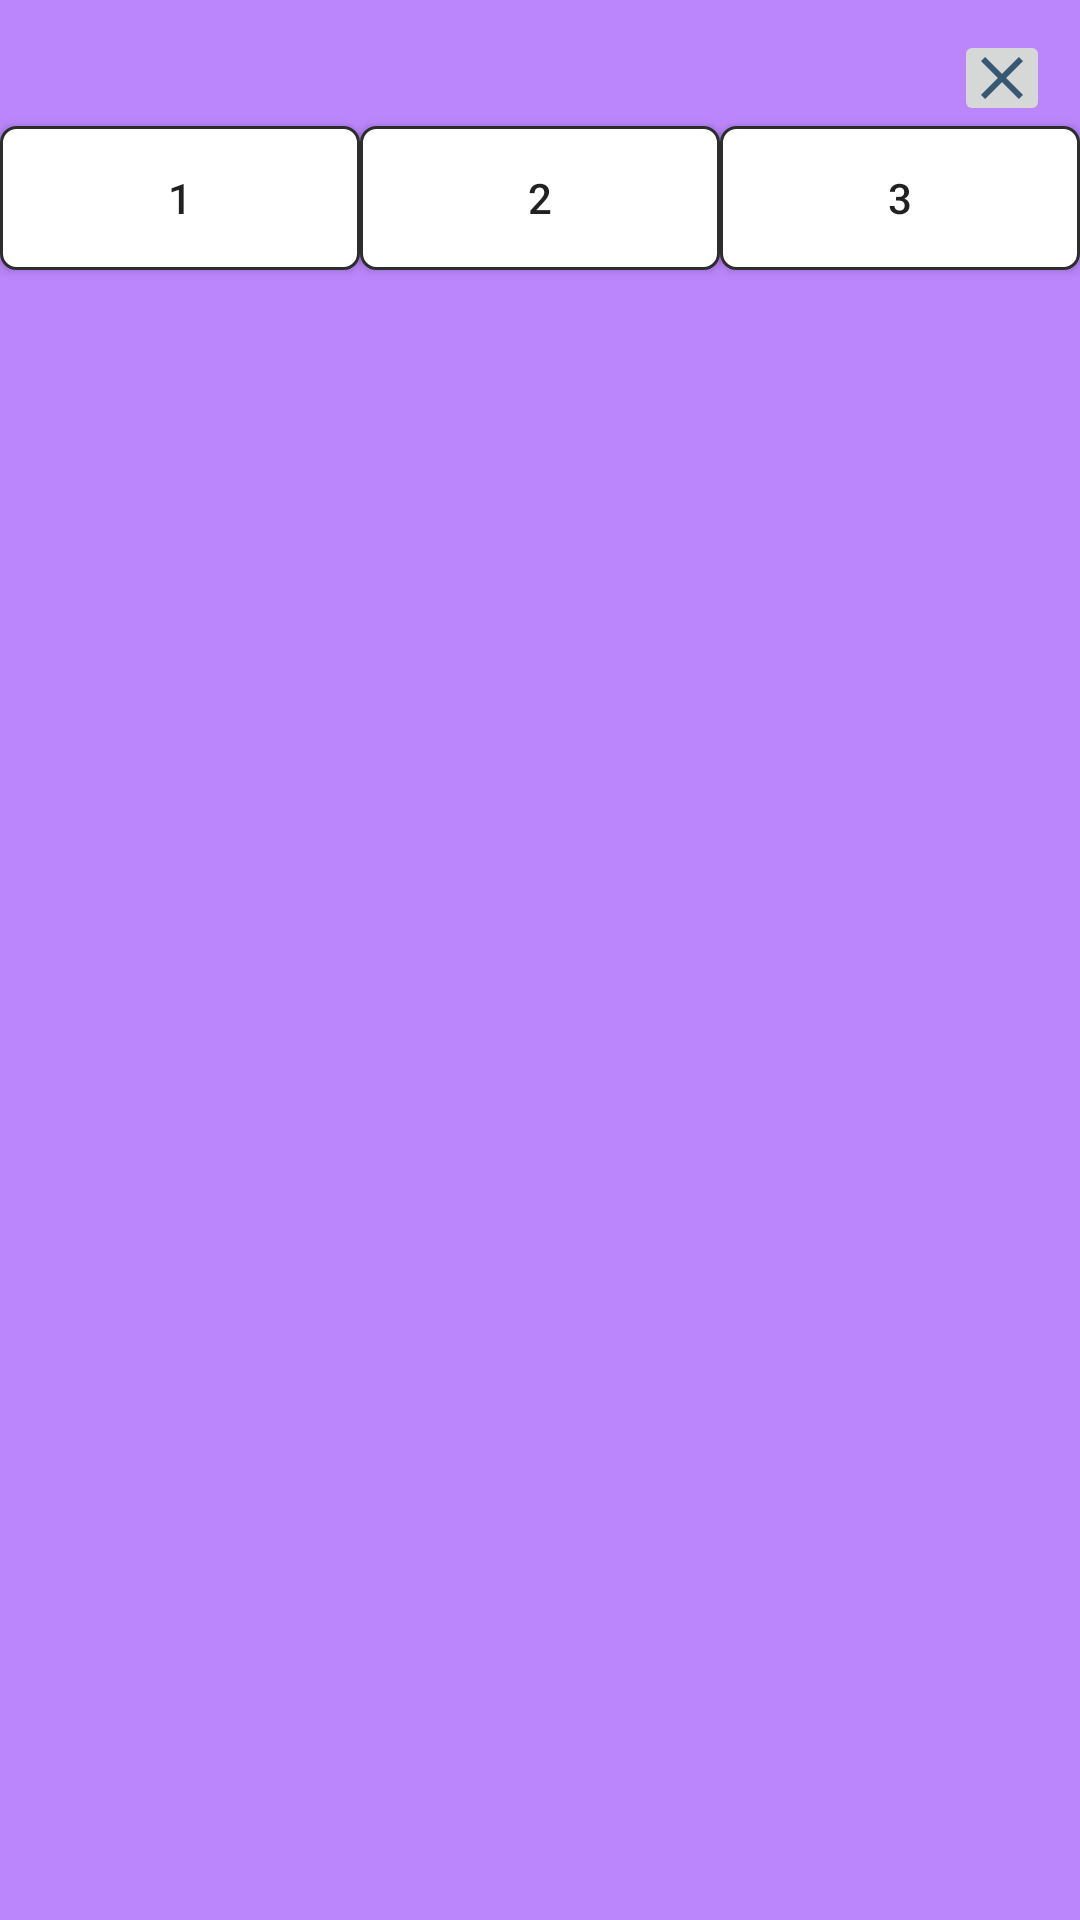

Locate icon controls on the screen. Image size 1080px×1920px, boxes as detection(x1, y1, x2, y2).
close: detection(966, 48, 1038, 108)
